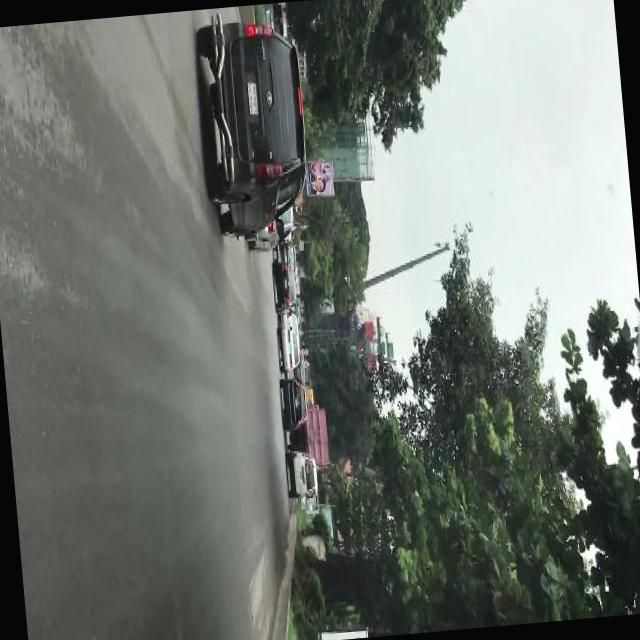car: (194, 14, 314, 222), (279, 378, 308, 426), (273, 258, 296, 312), (275, 324, 299, 370), (274, 235, 296, 267), (276, 306, 297, 326)
truck: (283, 447, 318, 498), (304, 398, 330, 463)
